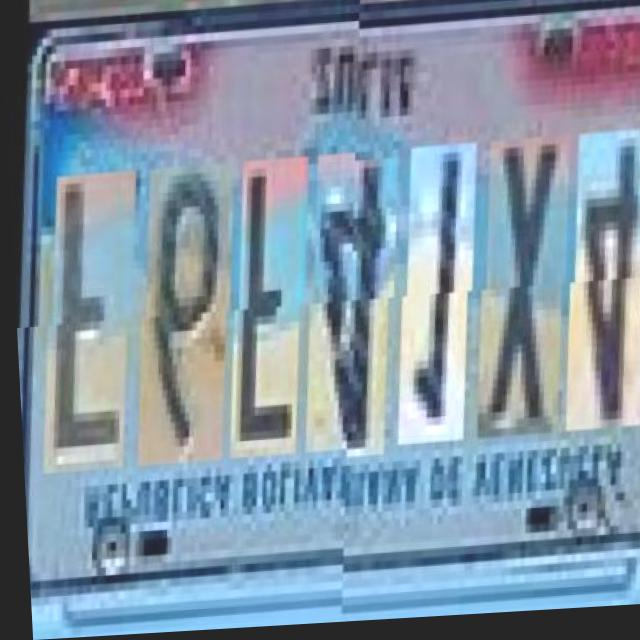1: (383, 143, 479, 442)
4: (288, 157, 399, 457), (550, 132, 640, 432)
6: (120, 166, 236, 468)
f: (27, 172, 138, 474), (214, 161, 310, 462)
x: (461, 136, 572, 439)
